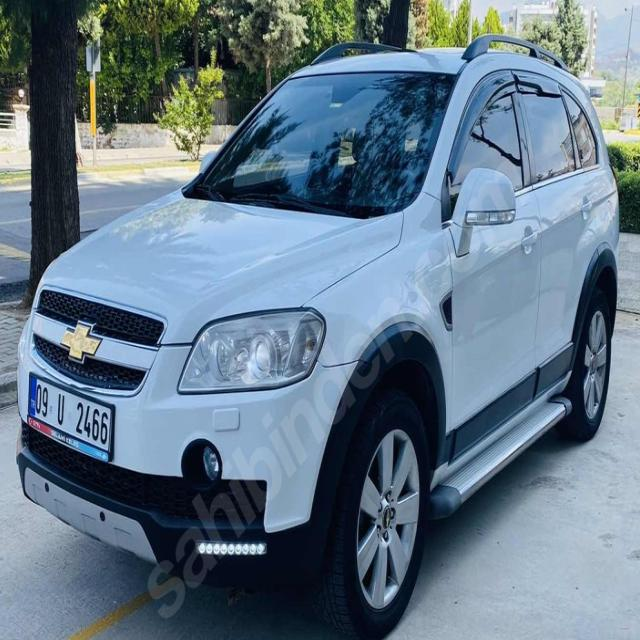chevrolet: (59, 318, 104, 366)
